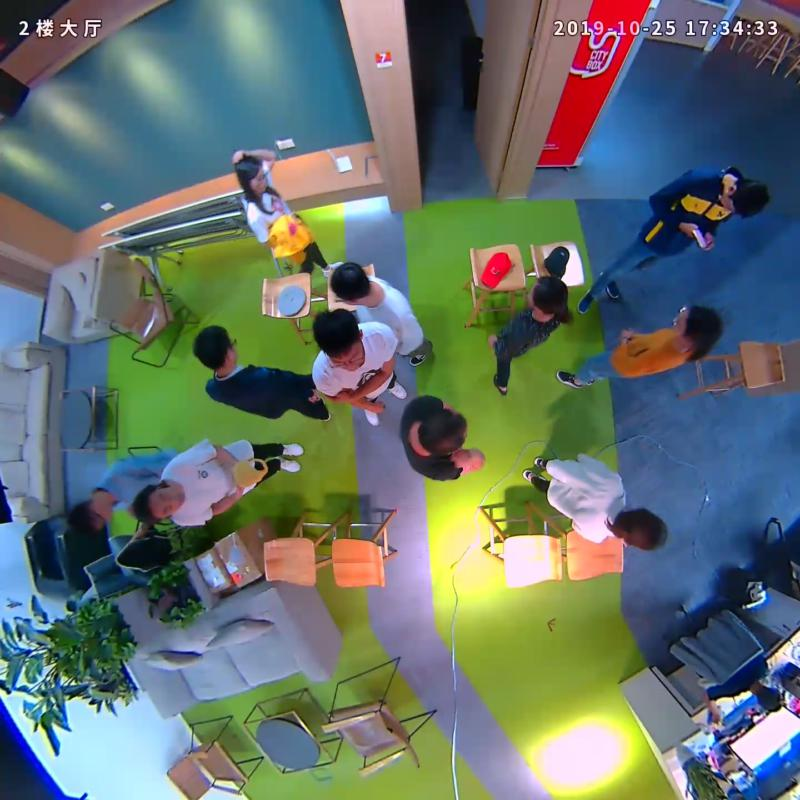head: (312, 309, 363, 370), (419, 407, 467, 456), (671, 306, 723, 350), (191, 324, 239, 370), (133, 482, 185, 524), (613, 508, 665, 550), (527, 274, 570, 319), (721, 178, 770, 217), (330, 261, 371, 306), (68, 497, 114, 536), (232, 155, 269, 194)
